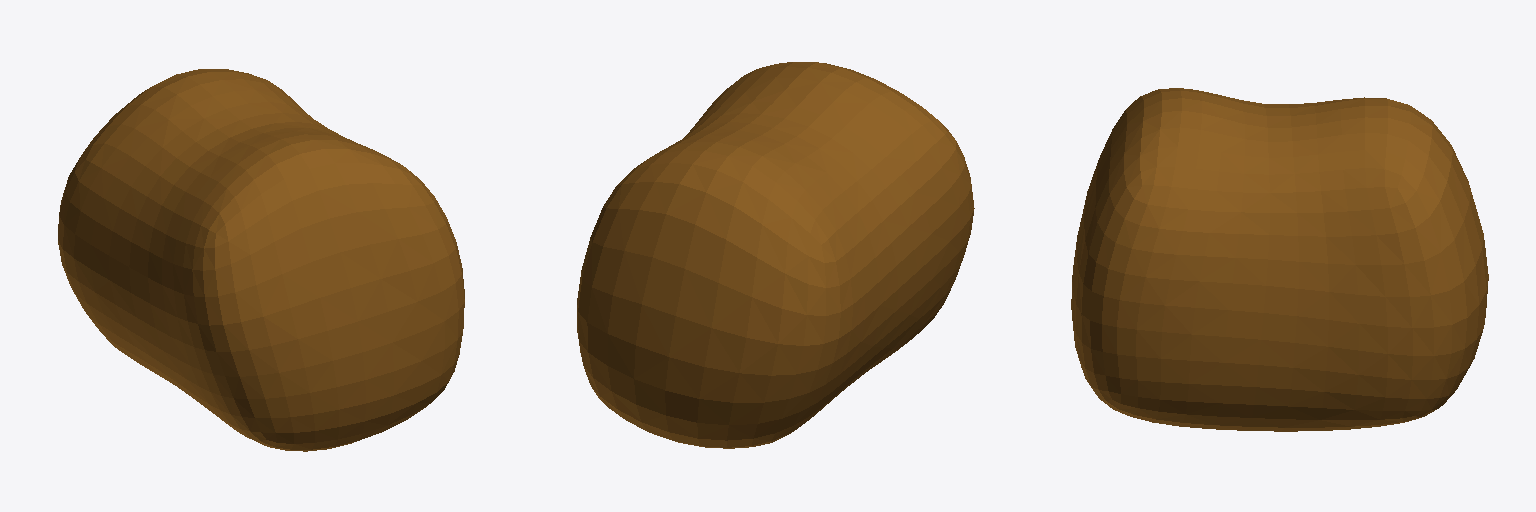
File: fing3_2.obj
The picture shows the model from 3 angles: view 1: azimuth 30°, elevation 25°; view 2: azimuth 150°, elevation 25°; view 3: azimuth 270°, elevation 25°; orthographic projection.
Visible parts, largest first — view 1: f3o2; view 2: f3o2; view 3: f3o2.
Part boxes in pixels (x1,y1,x2,y2): f3o2: (58, 69, 464, 451); f3o2: (577, 62, 974, 448); f3o2: (1071, 88, 1488, 431).
Bounding box in the file's own units: 0.6575 × 0.7129 × 0.8939.